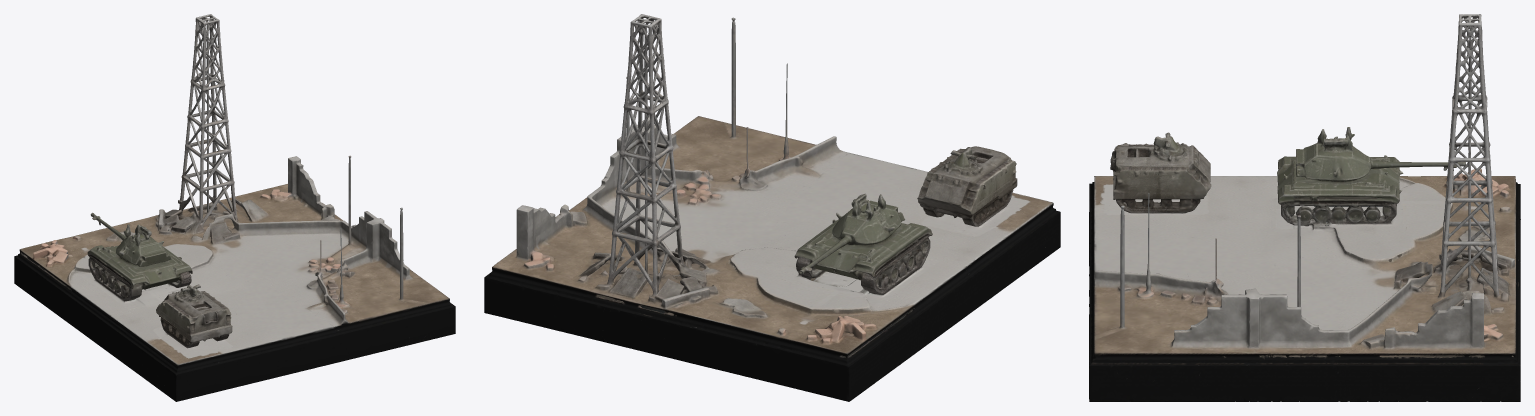
The model's file is tong_tien_cong_mau_than.glb.
3 views of the same model, side by side, from view 1: azimuth 30°, elevation 25°; view 2: azimuth 150°, elevation 25°; view 3: azimuth 270°, elevation 25° (orthographic). The views are drawn at different scales.
Size of the model in its own units: 1.86 by 1.5 by 1.87.
Materials: 1 (1 with a texture image).
